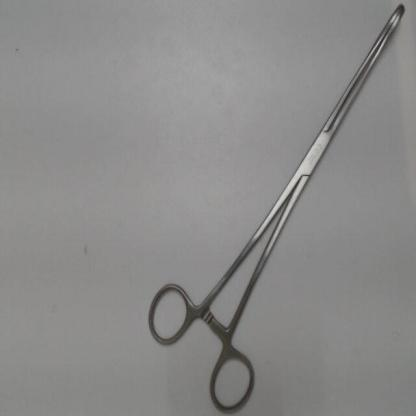Sponge Forceps: (138, 1, 414, 414)
